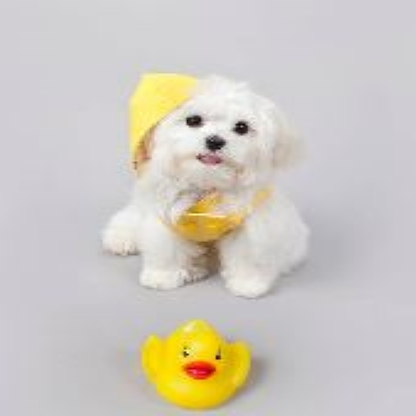maltese: (96, 70, 325, 293)
